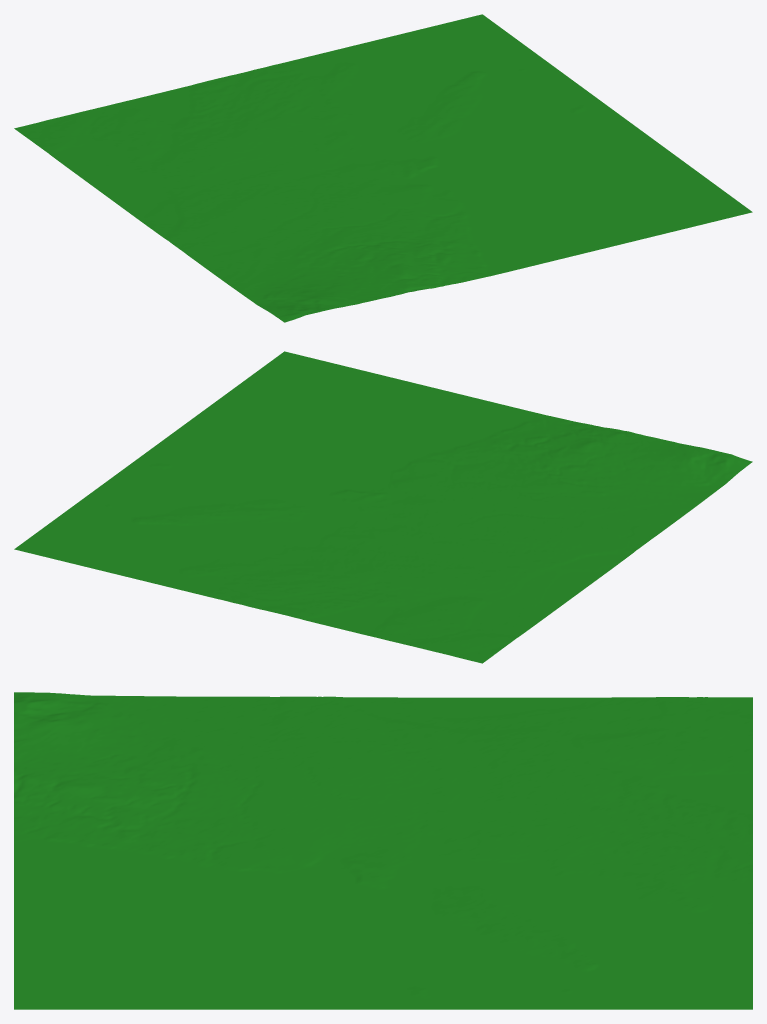
Rendered from terrain-3d.glb.
3 renders of one model, top to bottom at view 1: azimuth 30°, elevation 25°; view 2: azimuth 150°, elevation 25°; view 3: azimuth 270°, elevation 25°, orthographic. The views are drawn at different scales.
Size of the model in its own units: 40000 by 498 by 40000.
Materials: 1 (1 with a texture image).
